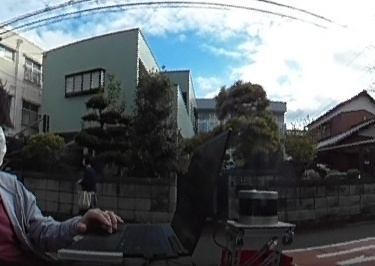person: (78, 154, 99, 207)
